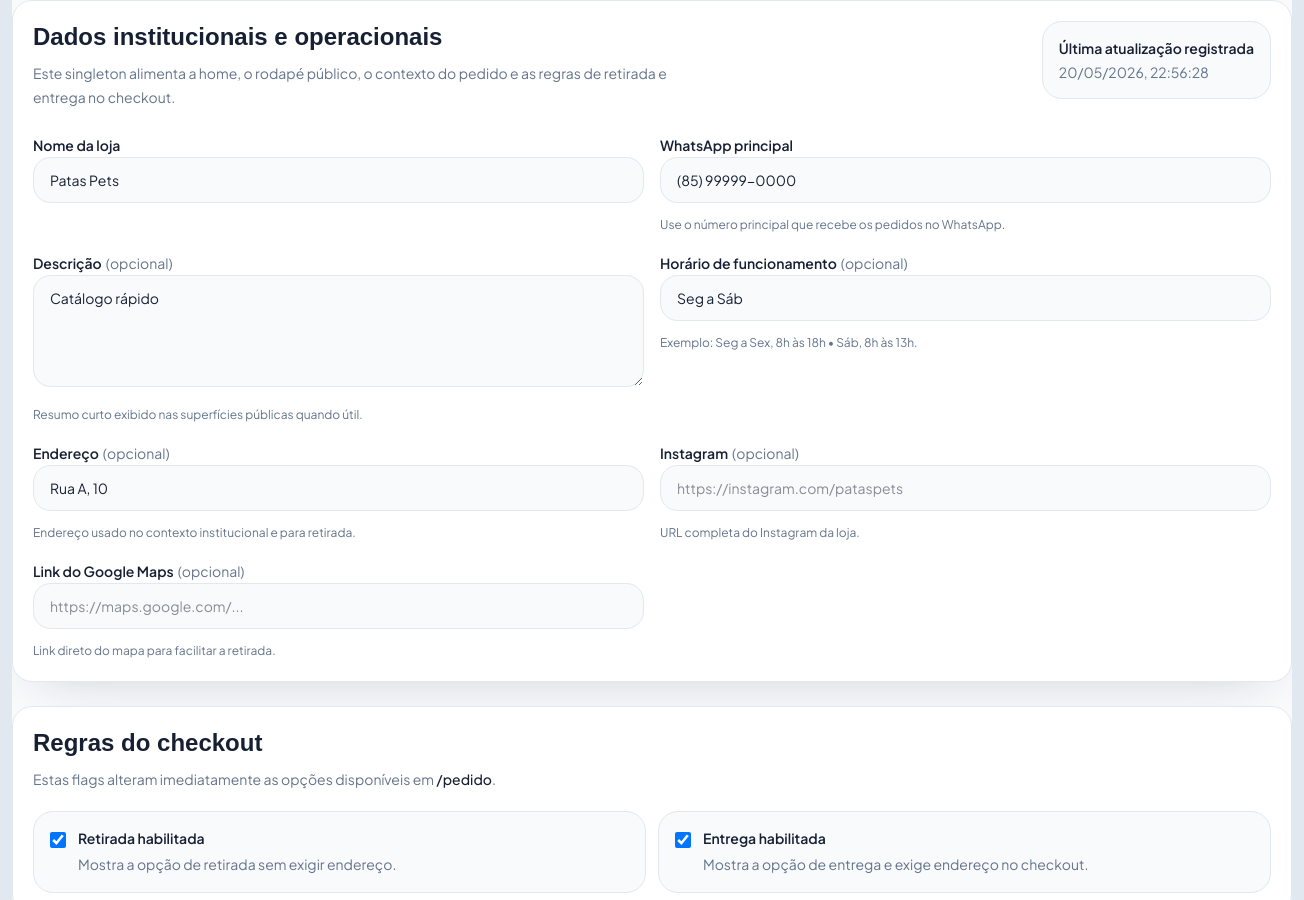
Scenario: StoreSettingsManager › saves the edited singleton and shows success feedback
Replace the text in the field labelled "Nome da loja" with "Patas Pets Fortaleza" at (338,180), box [33,157,644,203]
(page scrolled)
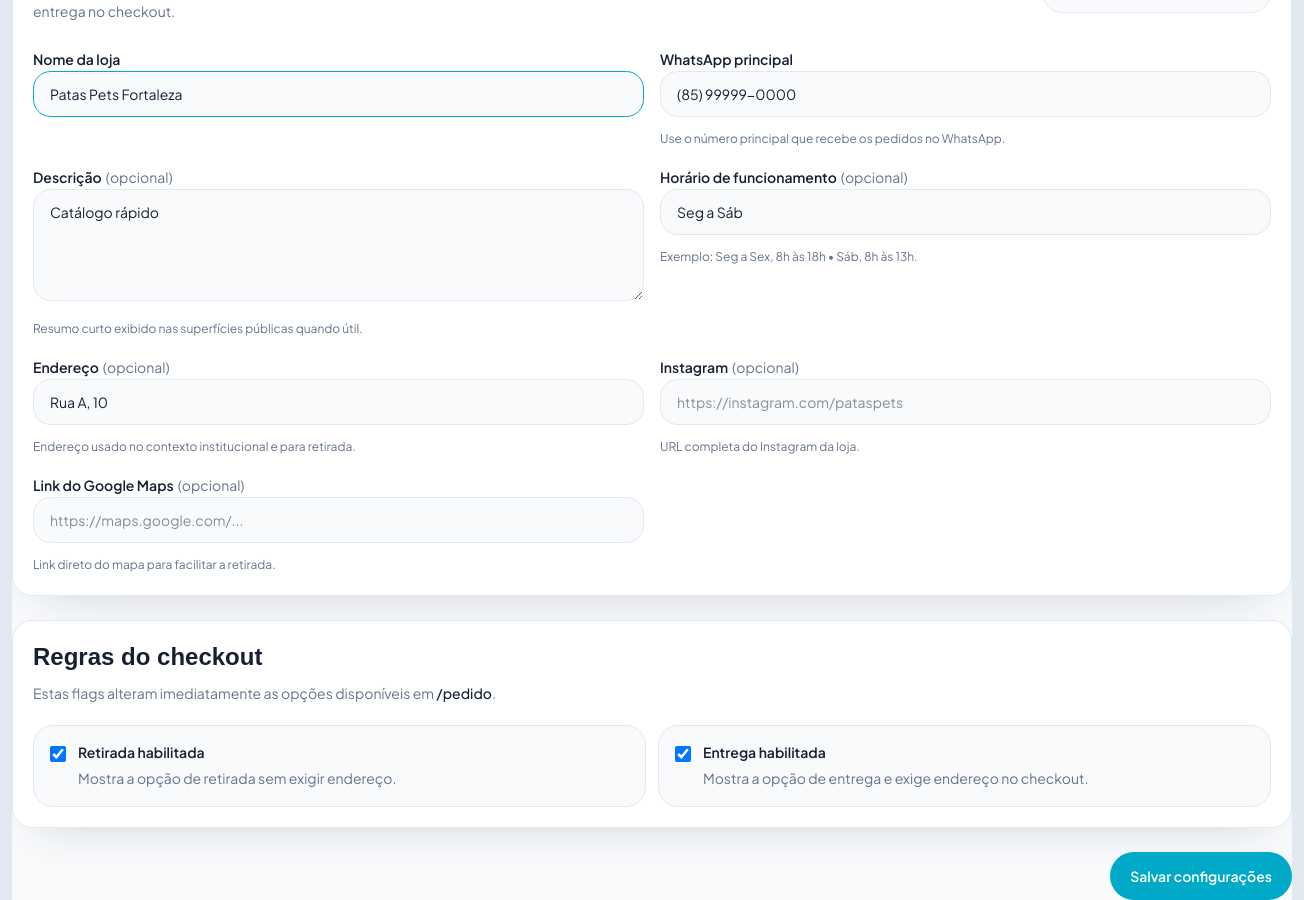
Click the button "Salvar configurações".
click(1201, 876)  # box [1110,852,1292,899]
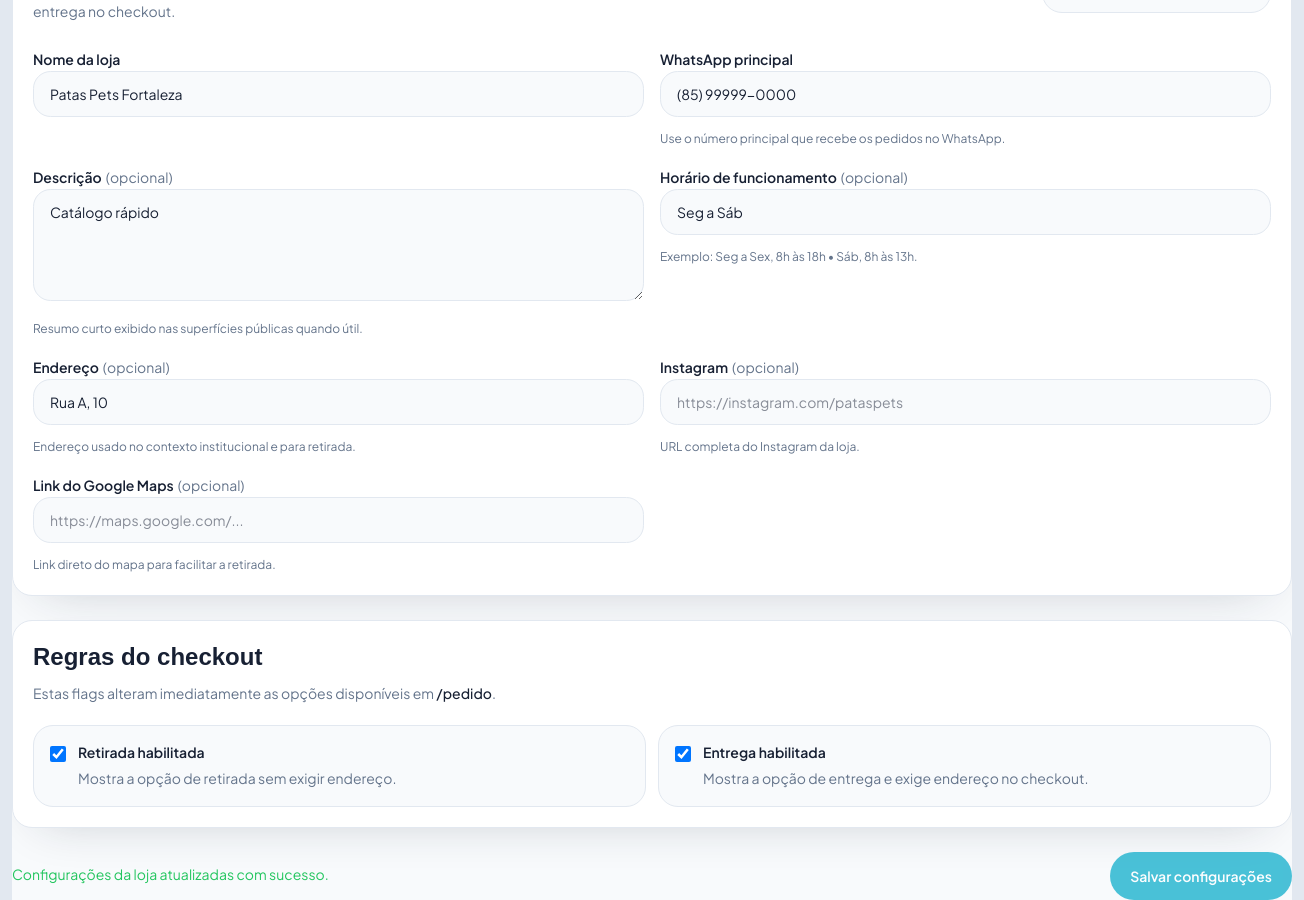
Result: the text "Configurações da loja atualizadas com sucesso." is shown at [12,864,329,884]
